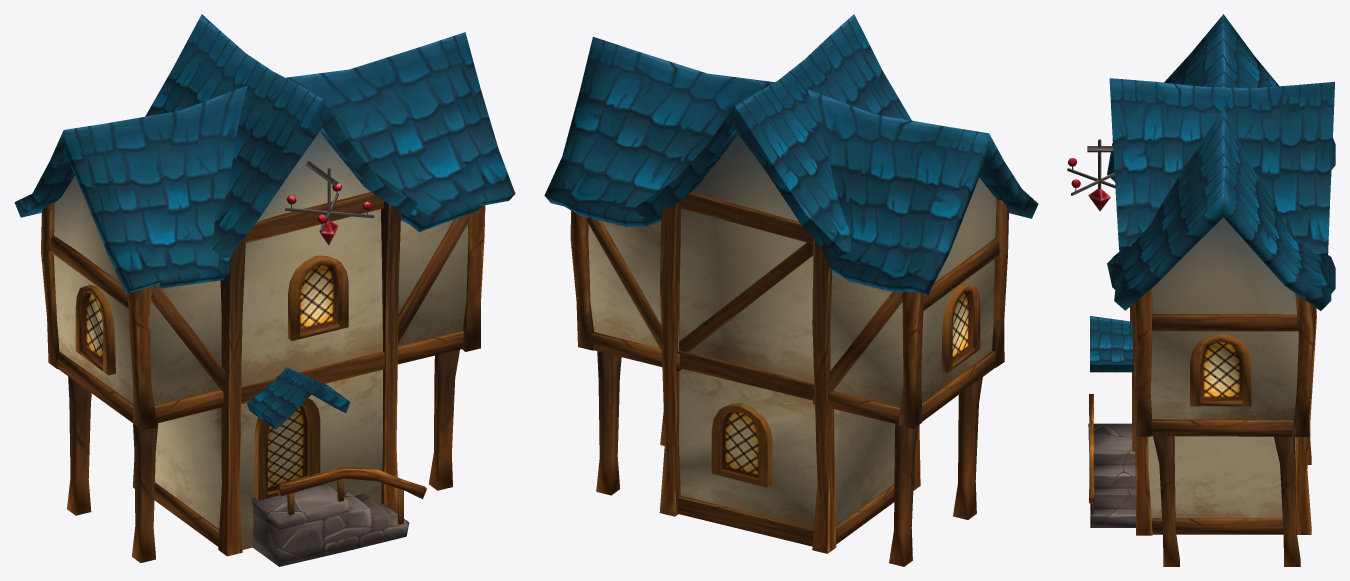
File: building_6_4.FBX
3 views of the same model, side by side, from view 1: azimuth 30°, elevation 25°; view 2: azimuth 150°, elevation 25°; view 3: azimuth 270°, elevation 25° (orthographic). The views are drawn at different scales.
Visible parts, largest first — view 1: building_6_4; view 2: building_6_4; view 3: building_6_4.
Part boxes in pixels (x1,y1,x2,y2): building_6_4: (14, 14, 515, 566); building_6_4: (544, 14, 1038, 566); building_6_4: (1067, 14, 1335, 566).
Size of the model in its own units: 338 by 360 by 210.
